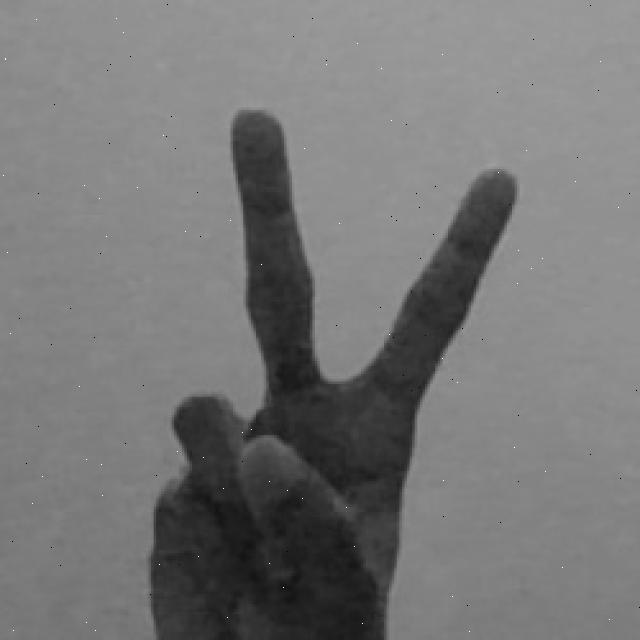V: (140, 99, 517, 640)
